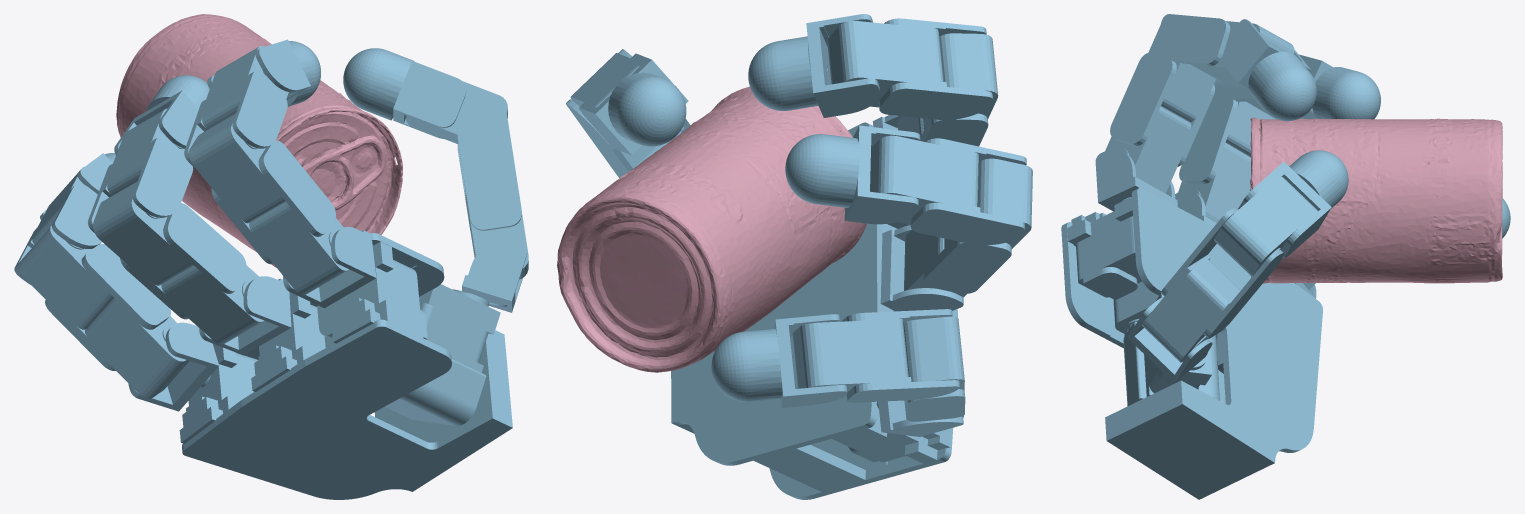
3 renders of one model, left to right at view 1: azimuth 30°, elevation 25°; view 2: azimuth 150°, elevation 25°; view 3: azimuth 270°, elevation 25°, orthographic. The views are drawn at different scales.
Visible parts, largest first — view 1: world; view 2: world; view 3: world.
Part boxes in pixels (x1,y1,x2,y2): world: (14, 14, 528, 499); world: (557, 14, 1032, 499); world: (1061, 14, 1510, 499).
Bounding box in the file's own units: 0.183 × 0.1913 × 0.1812.
